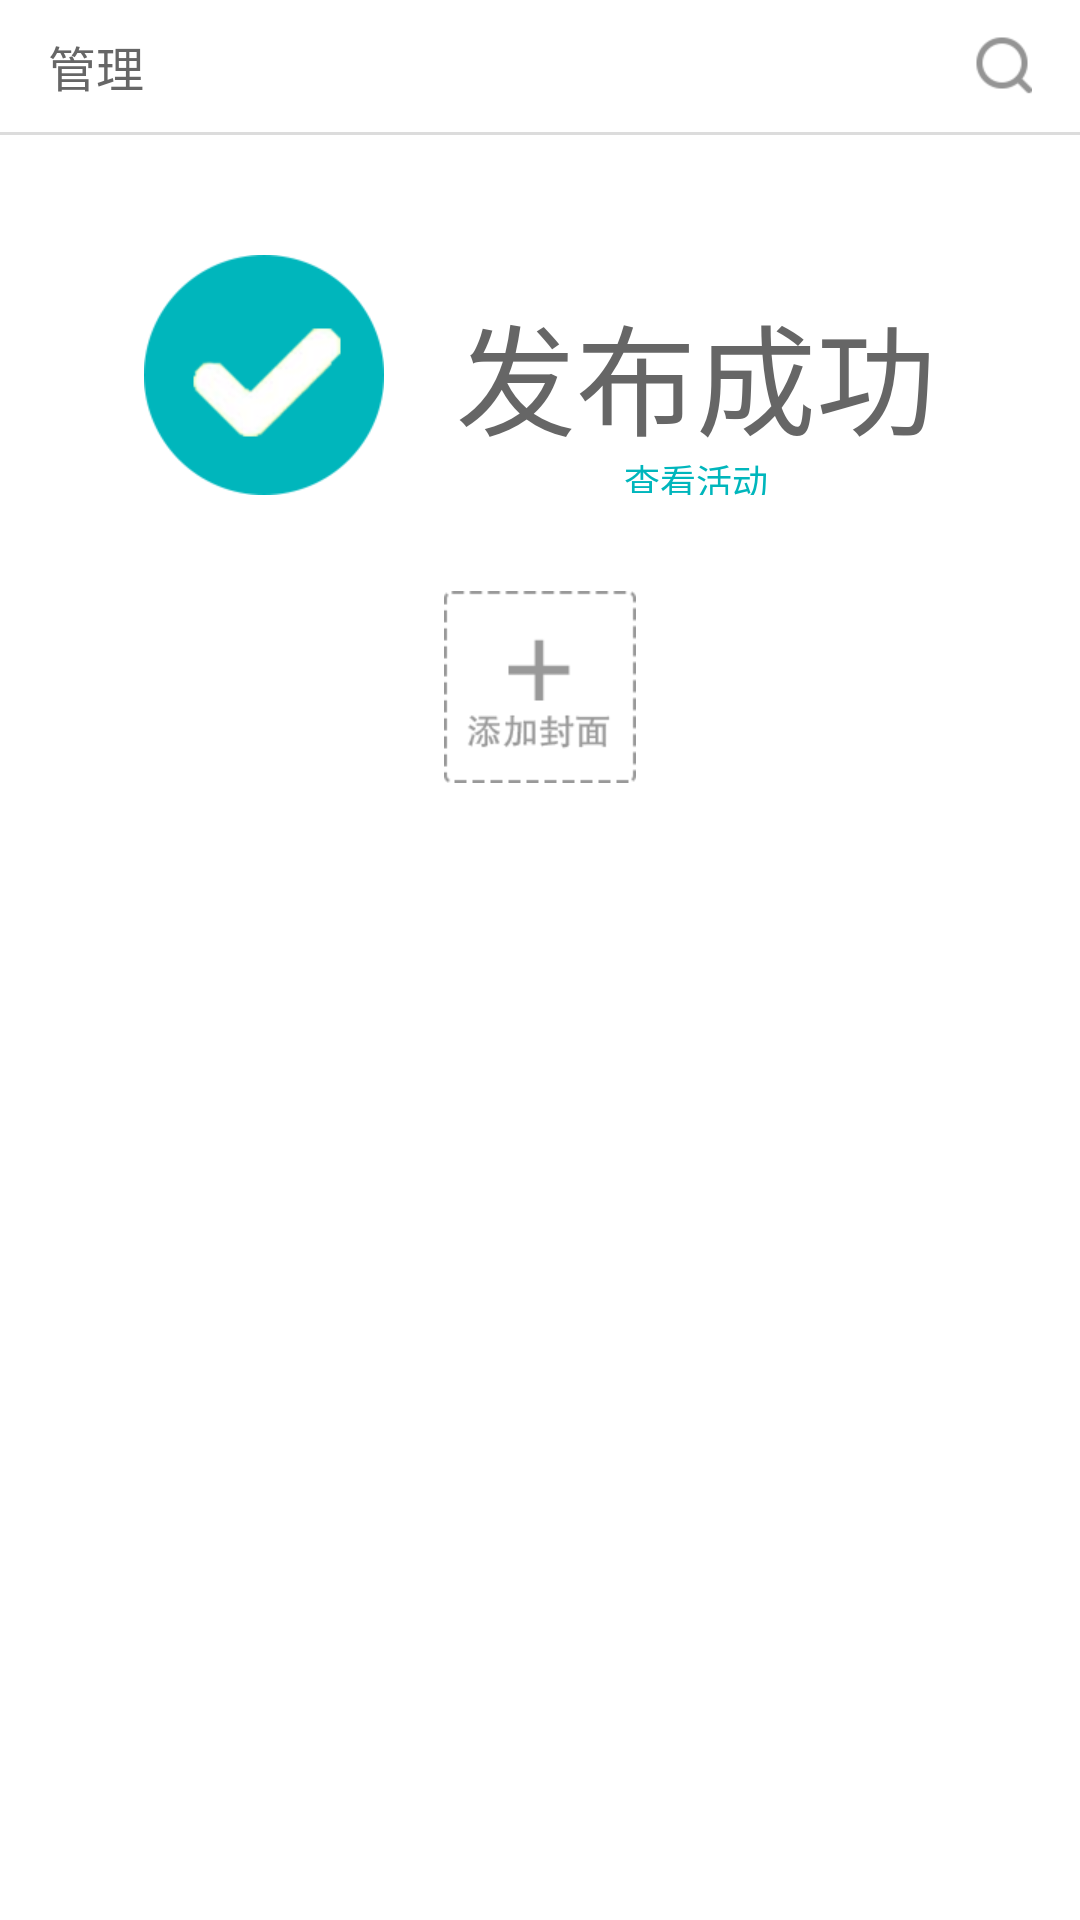

Icon click points for this 1080×1920 phone screenshot, format (x,y):
search ib: (1004,65)
successful: (264,375)
